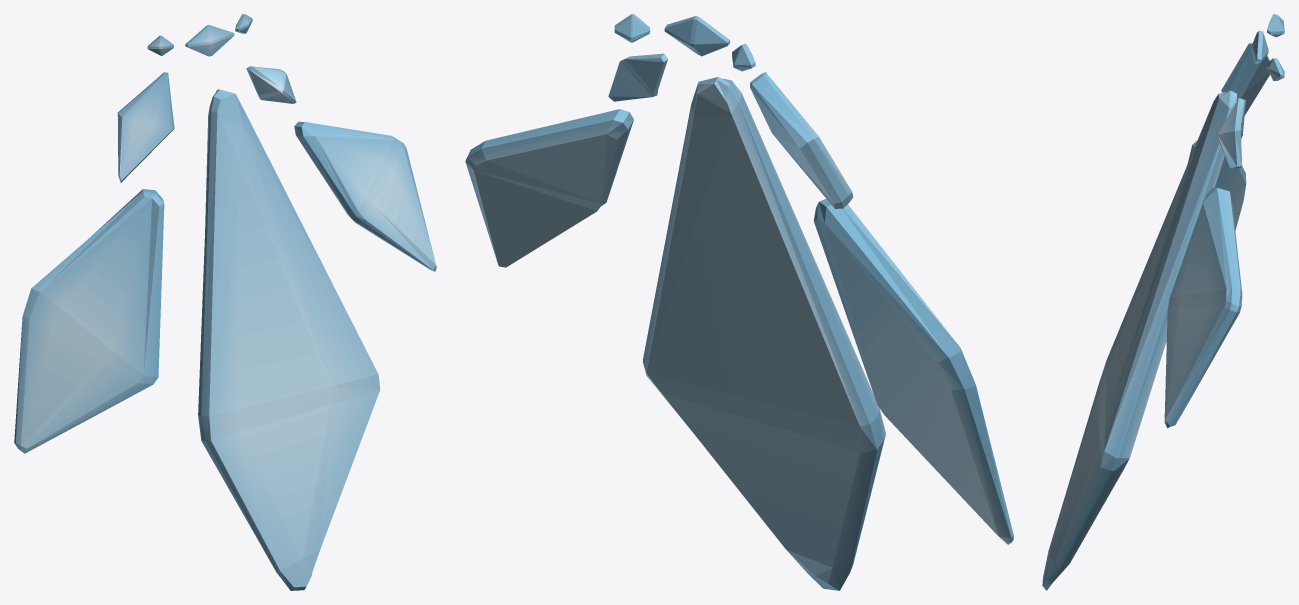
Rendered from CharSkyKid_Wing_TriumphIce.glb.
3 renders of one model, left to right at view 1: azimuth 30°, elevation 25°; view 2: azimuth 150°, elevation 25°; view 3: azimuth 270°, elevation 25°, orthographic. The views are drawn at different scales.
Parts seen in each view (by area): view 1: CharSkyKid_Wing_TriumphIce; view 2: CharSkyKid_Wing_TriumphIce; view 3: CharSkyKid_Wing_TriumphIce.
Boxes of the visible parts, x1=… form: CharSkyKid_Wing_TriumphIce: x1=14, y1=14, x2=436, y2=590; CharSkyKid_Wing_TriumphIce: x1=465, y1=14, x2=1013, y2=590; CharSkyKid_Wing_TriumphIce: x1=1042, y1=14, x2=1284, y2=590.
Bounding box in the file's own units: 6.99 × 8.23 × 3.23.
Materials: 1 (1 with a texture image).
